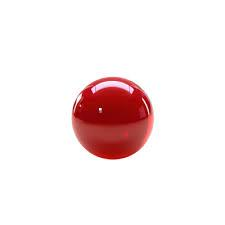red_circle: (67, 71, 158, 162)
